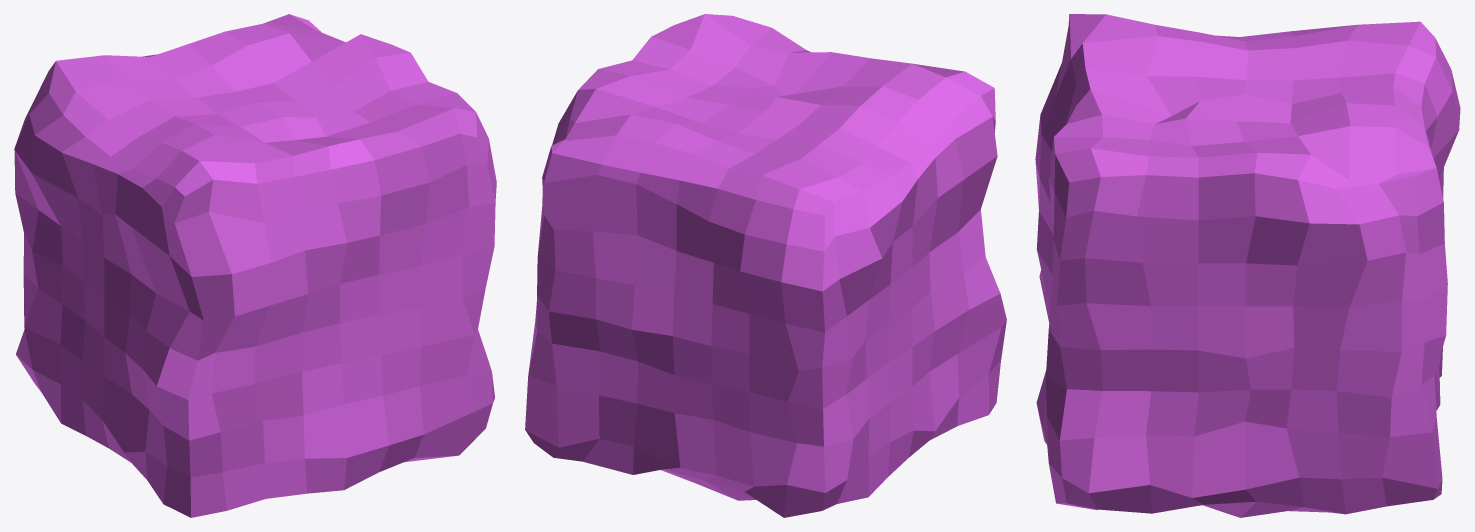
3 renders of one model, left to right at view 1: azimuth 30°, elevation 25°; view 2: azimuth 150°, elevation 25°; view 3: azimuth 270°, elevation 25°, orthographic. The views are drawn at different scales.
Visible parts, largest first — view 1: Cube; view 2: Cube; view 3: Cube.
Boxes of the visible parts, bbox=[...] form: Cube: bbox=[14, 14, 496, 517]; Cube: bbox=[525, 14, 1006, 517]; Cube: bbox=[1035, 14, 1460, 517].
Bounding box in the file's own units: 2.29 × 2.2 × 2.25.
